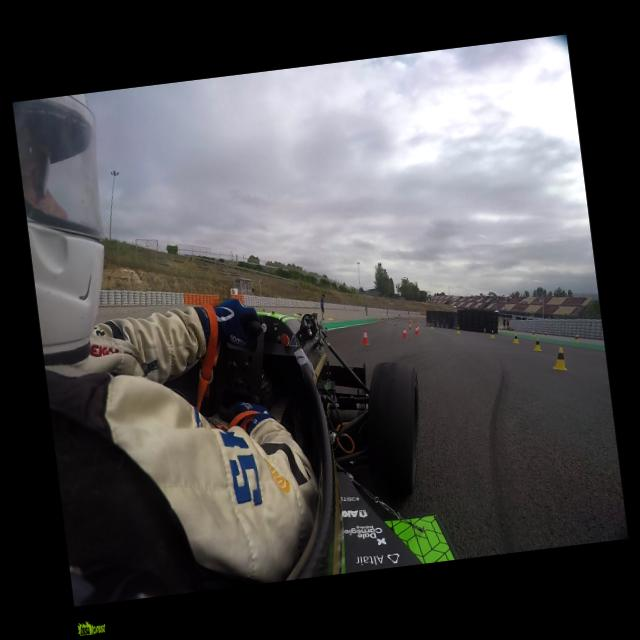orange_cone: (359, 329, 369, 346), (400, 328, 407, 338), (413, 326, 419, 335), (414, 324, 418, 332), (392, 320, 397, 326), (482, 327, 487, 333), (408, 323, 412, 330)
yellow_cone: (551, 346, 567, 372), (531, 338, 542, 352), (512, 334, 518, 345), (488, 329, 495, 338), (456, 327, 460, 334), (429, 323, 433, 329)
